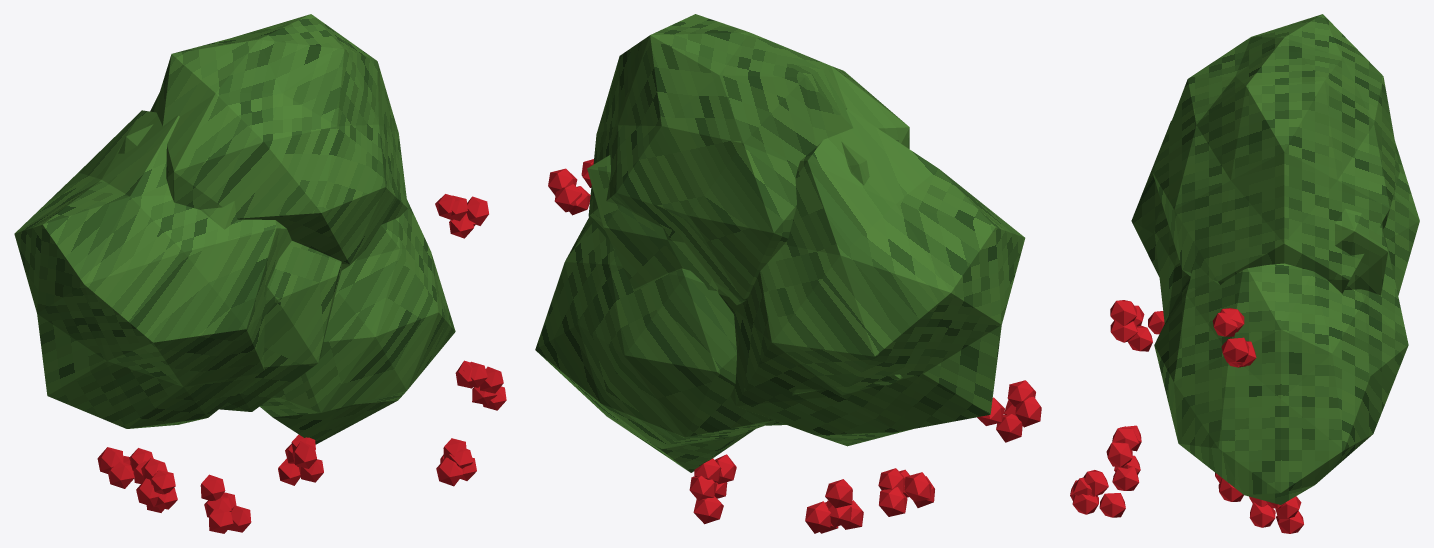
Rendered from herb_redberry_bush.glb.
3 renders of one model, left to right at view 1: azimuth 30°, elevation 25°; view 2: azimuth 150°, elevation 25°; view 3: azimuth 270°, elevation 25°, orthographic. The views are drawn at different scales.
Parts seen in each view (by area): view 1: leaves, fruit_berries; view 2: leaves, fruit_berries; view 3: leaves, fruit_berries.
Boxes of the visible parts, x1,y1,x2,y2 form: leaves: (14,14,455,444); fruit_berries: (97,194,506,533); leaves: (535,14,1025,472); fruit_berries: (548,159,1041,533); leaves: (1131,14,1419,504); fruit_berries: (1070,300,1303,533).
Bounding box in the file's own units: 1.23 × 1.26 × 0.8197.
2 materials, 1 textured.
